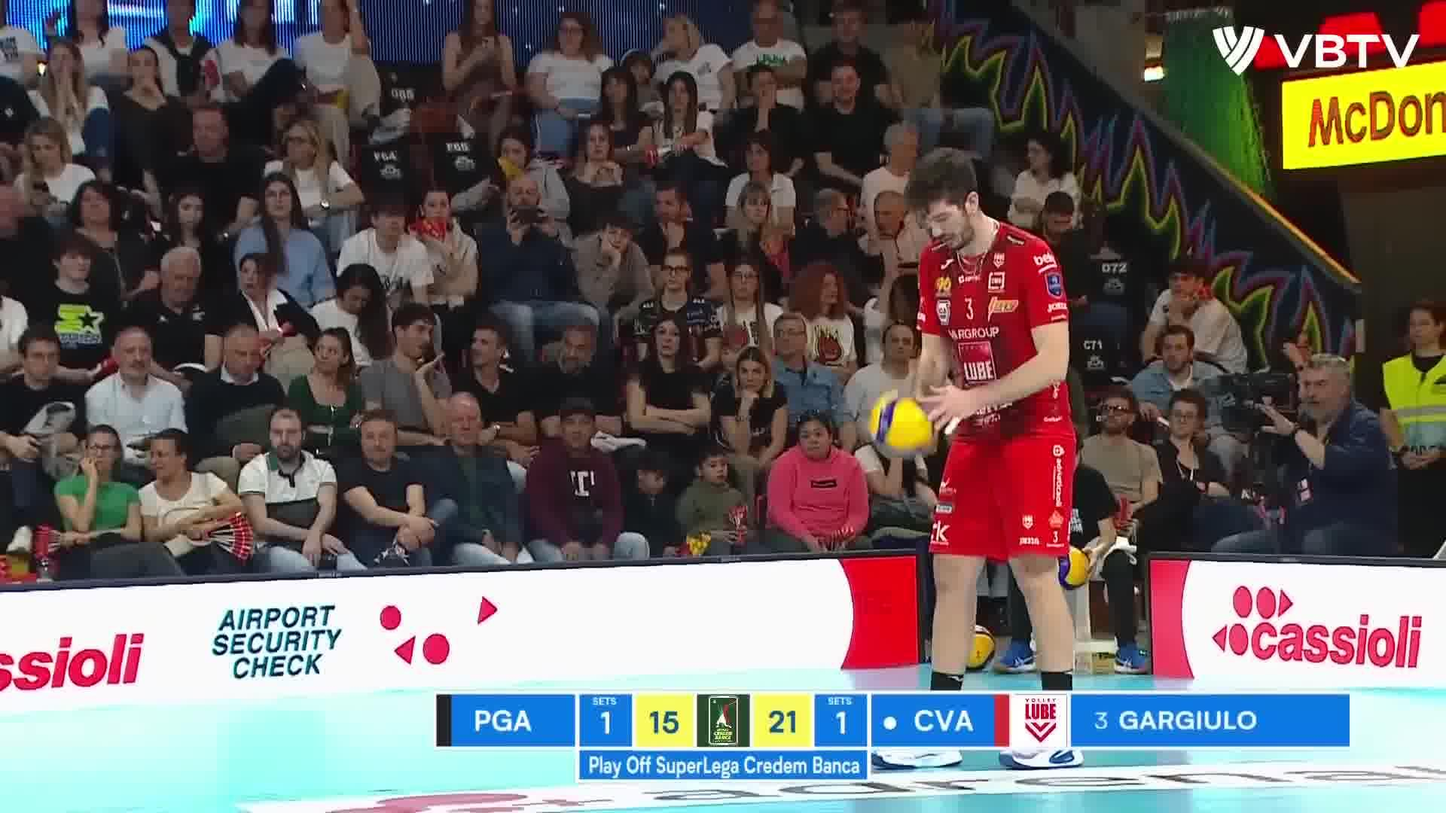balls: (862, 384, 938, 464)
